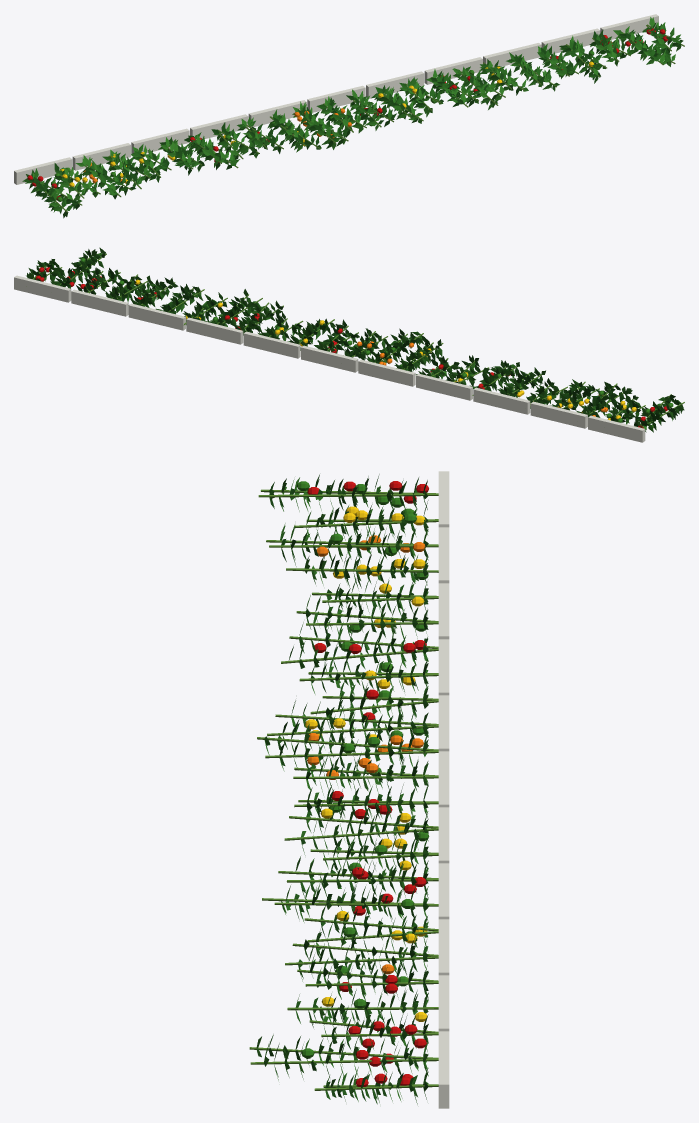
Rendered from row21.obj.
3 renders of one model, top to bottom at view 1: azimuth 30°, elevation 25°; view 2: azimuth 150°, elevation 25°; view 3: azimuth 270°, elevation 25°, orthographic. The views are drawn at different scales.
Visible parts, largest first — view 1: row21; view 2: row21; view 3: row21.
Boxes of the visible parts, bbox=[...] form: row21: bbox=[14, 14, 684, 218]; row21: bbox=[14, 247, 684, 442]; row21: bbox=[249, 471, 449, 1108].
Bounding box in the file's own units: 11.03 × 0.4306 × 1.51.
